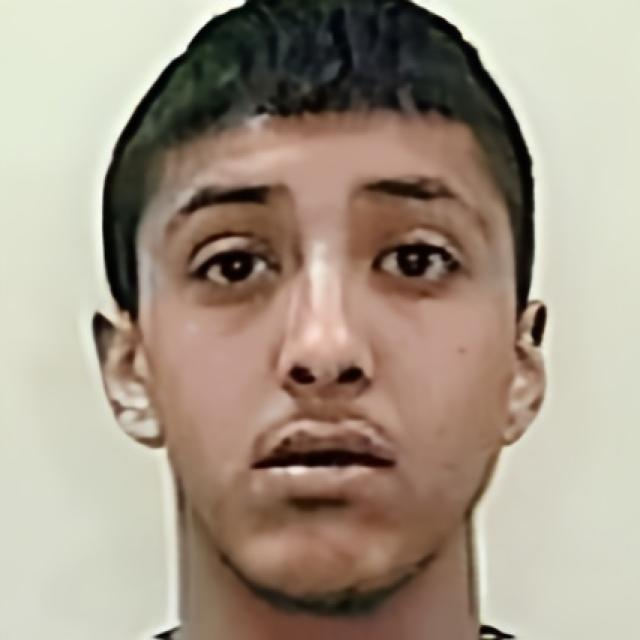surprise: (132, 105, 519, 602)
